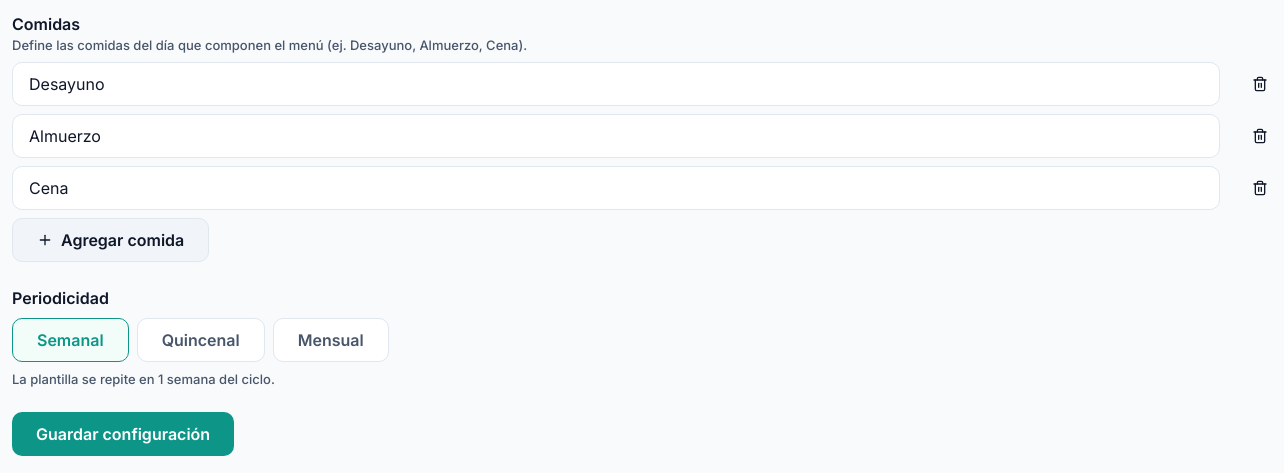
Scenario: ConfiguracionMenuSection (Spec configuracion-menu) › AC-6: cambiar la periodicidad actualiza la selección y expone el número de semanas
This screenshot has width=1284, height=473.
Expected: the field showing "Desayuno" is shown, [12,62,1220,106]
Click the radio button labelled "Mensual" at [331, 340], box [273,318,389,362]
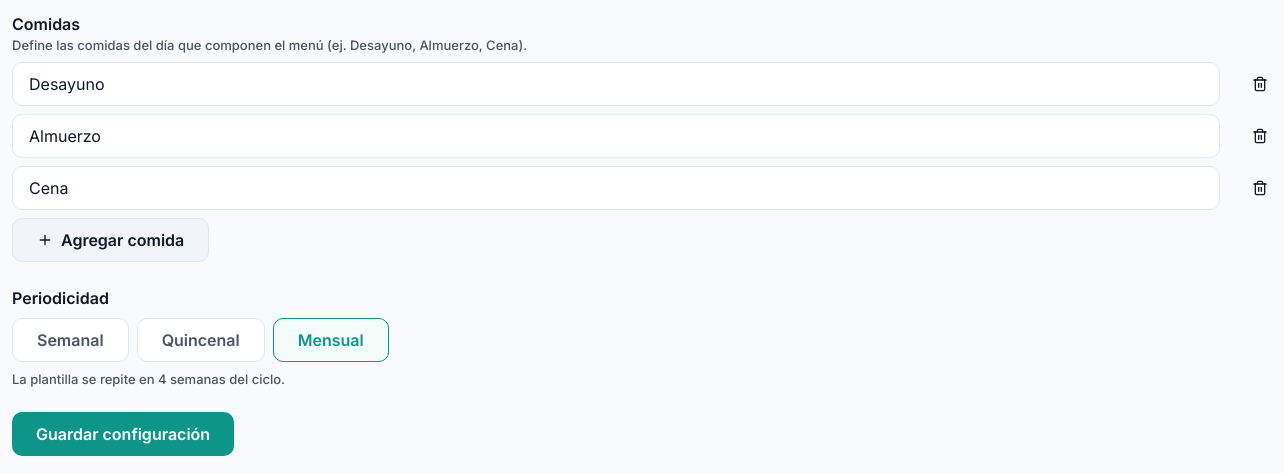
Expected: the radio button labelled "Mensual" is checked, [273,318,389,362]
Expected: the text "La plantilla se repite en 4 semanas del ciclo." is shown, [12,371,285,387]
